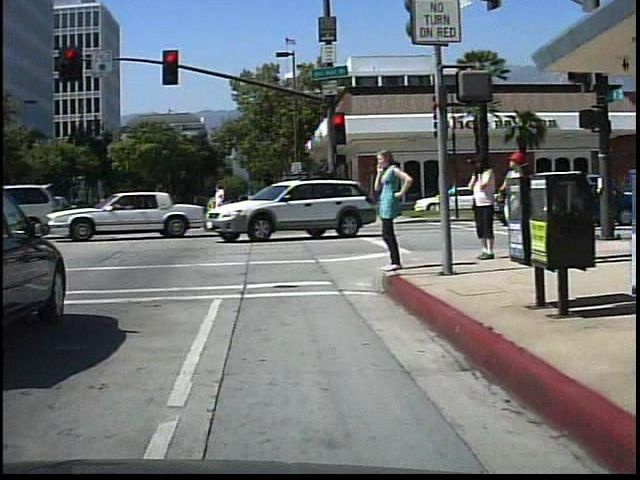person: (369, 146, 413, 280), (461, 148, 500, 262), (494, 146, 533, 246)
